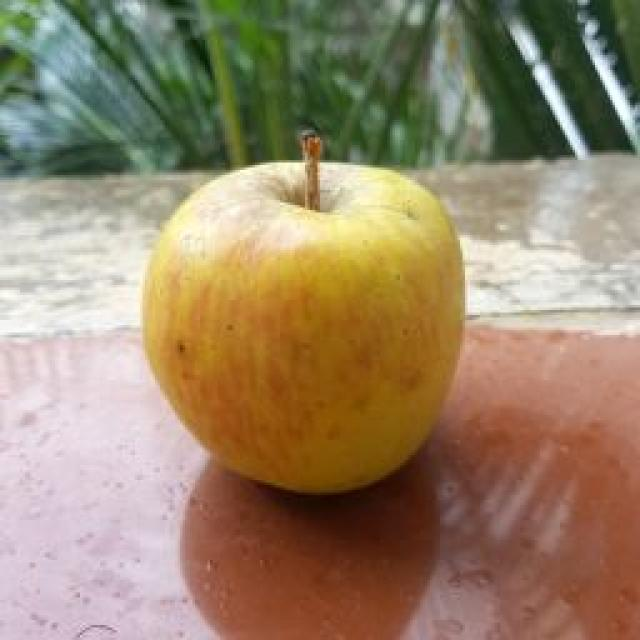Good_Apple: (144, 162, 462, 493)
